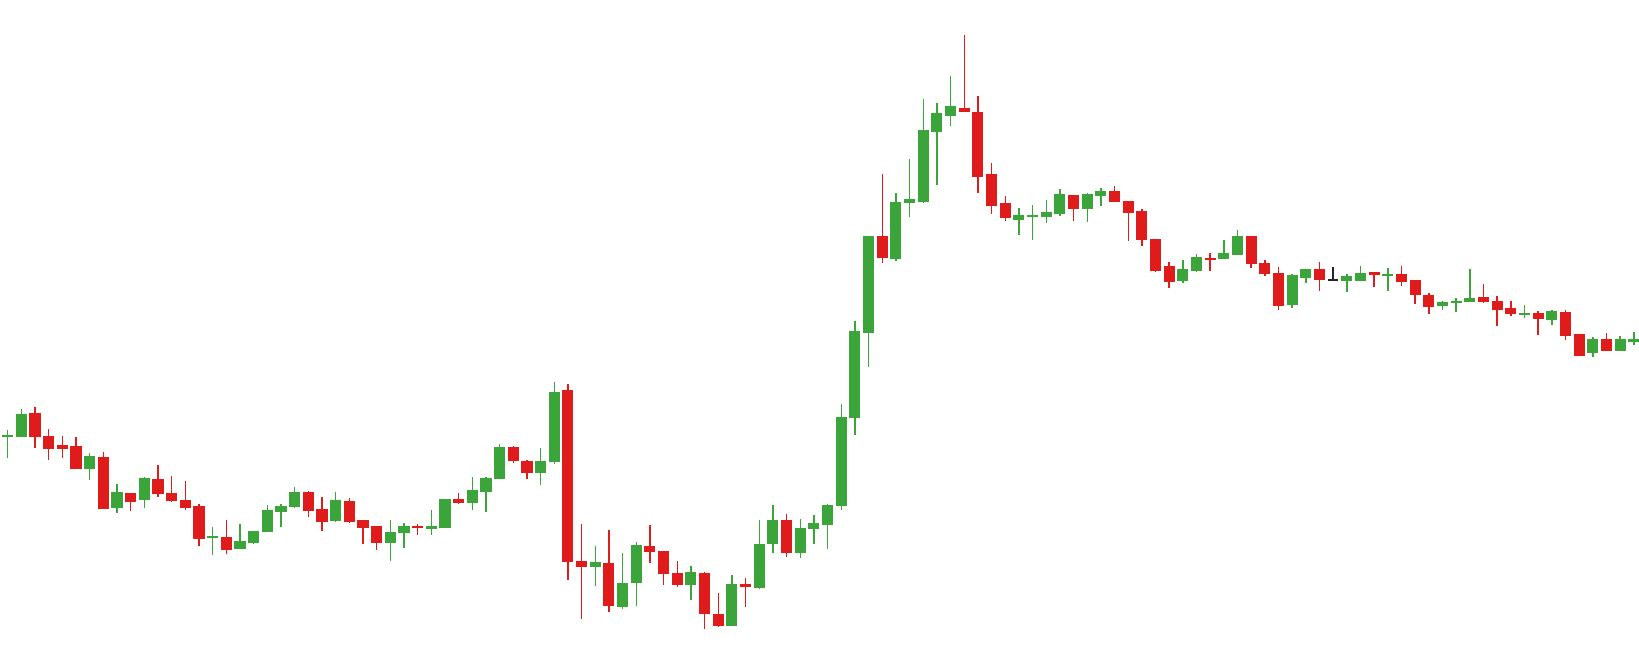buy: (600, 542, 739, 637)
